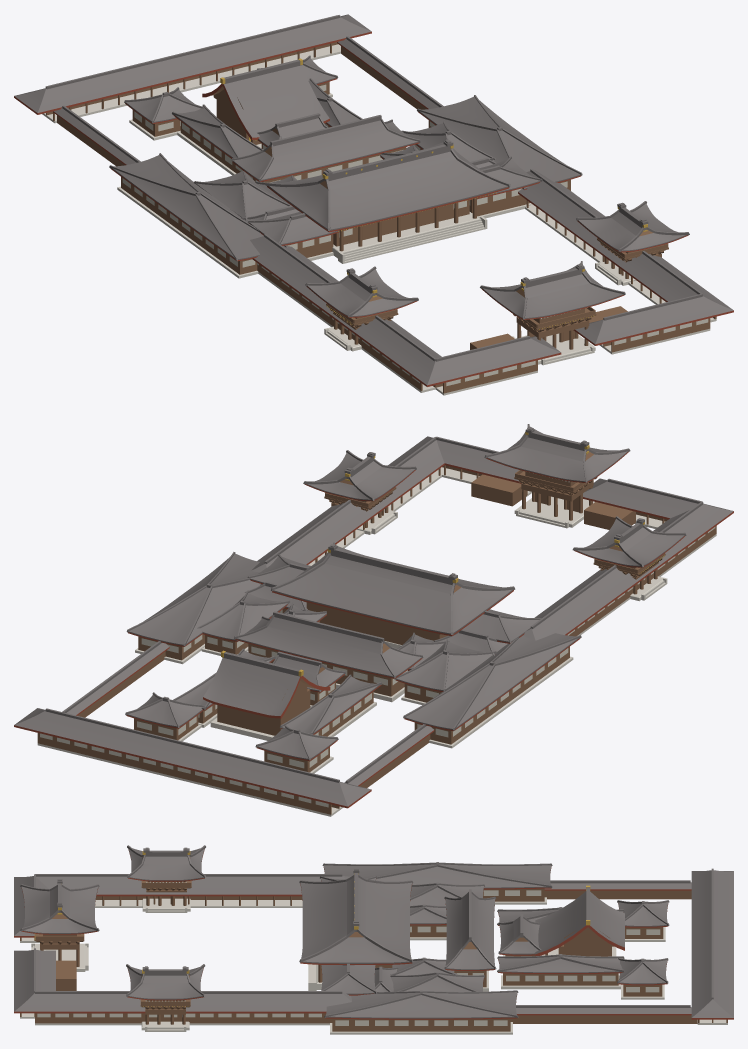
Rendered from tokyo-meiji-jingu.detail.glb.
3 renders of one model, top to bottom at view 1: azimuth 30°, elevation 25°; view 2: azimuth 150°, elevation 25°; view 3: azimuth 270°, elevation 25°, orthographic. The views are drawn at different scales.
Visible parts, largest first — view 1: Meiji Jingu; view 2: Meiji Jingu; view 3: Meiji Jingu.
Boxes of the visible parts, x1,y1,x2,y2 form: Meiji Jingu: (14,14,733,395); Meiji Jingu: (14,424,733,816); Meiji Jingu: (14,845,733,1034).
Bounding box in the file's own units: 78.19 × 16.25 × 156.
